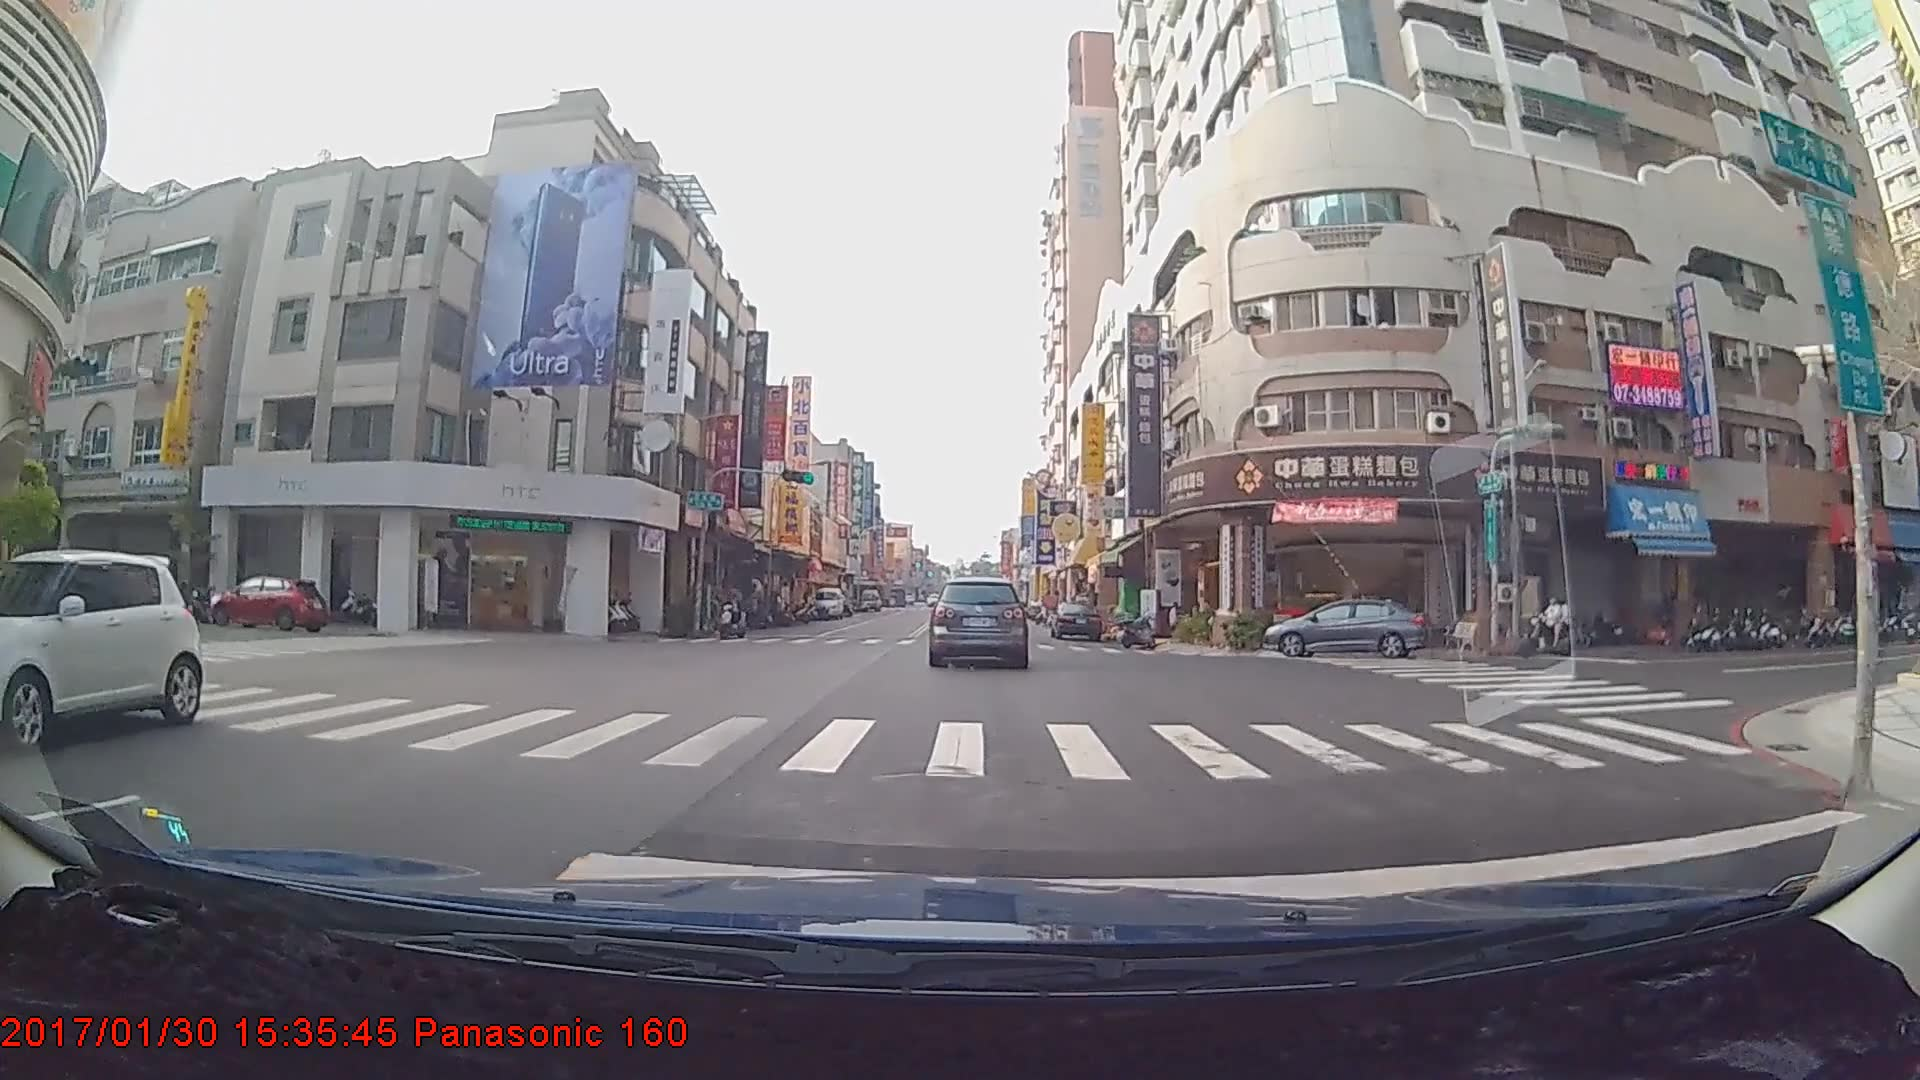rider: (1524, 590, 1583, 650), (713, 578, 749, 637)
vehicle: (0, 546, 204, 757), (1261, 593, 1425, 653), (928, 578, 1026, 667), (212, 572, 326, 632), (1048, 598, 1101, 639), (808, 584, 844, 617)
